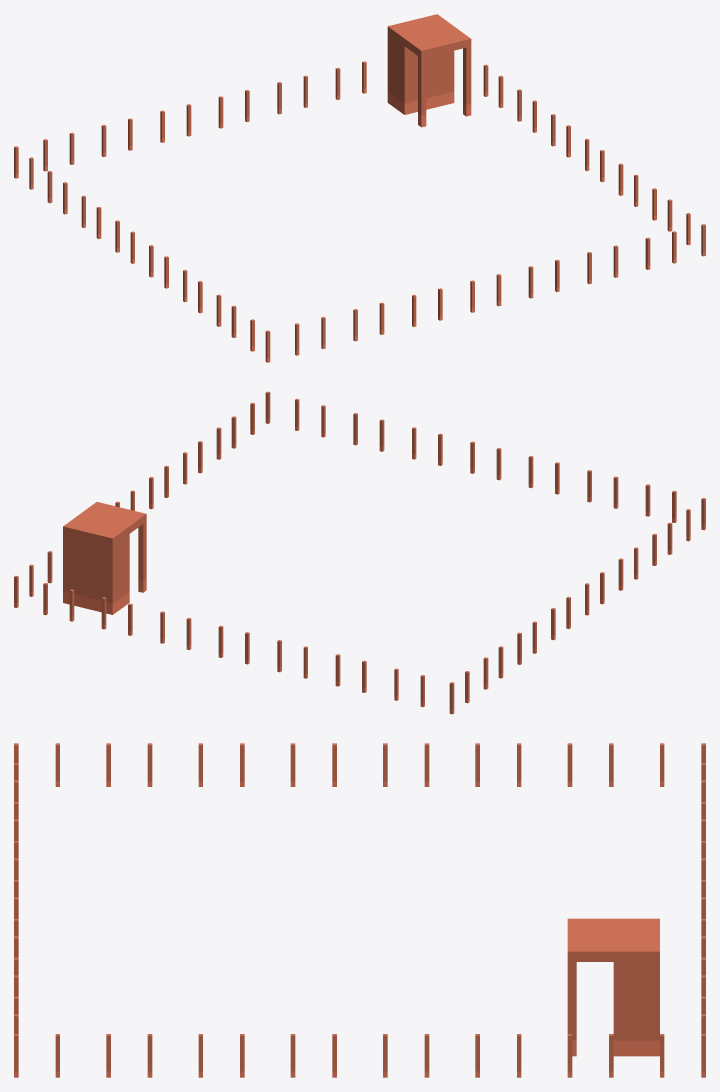
Rendered from farm1.fbx.
3 renders of one model, top to bottom at view 1: azimuth 30°, elevation 25°; view 2: azimuth 150°, elevation 25°; view 3: azimuth 270°, elevation 25°, orthographic. The views are drawn at different scales.
Visible parts, largest first — view 1: block_columns_76; view 2: block_columns_76; view 3: block_columns_76.
Part boxes in pixels (x1=…): block_columns_76: x1=387, y1=14, x2=471, y2=127; block_columns_76: x1=63, y1=502, x2=146, y2=614; block_columns_76: x1=567, y1=918, x2=659, y2=1056.
Bounding box in the file's own units: 150 × 25 × 150.
